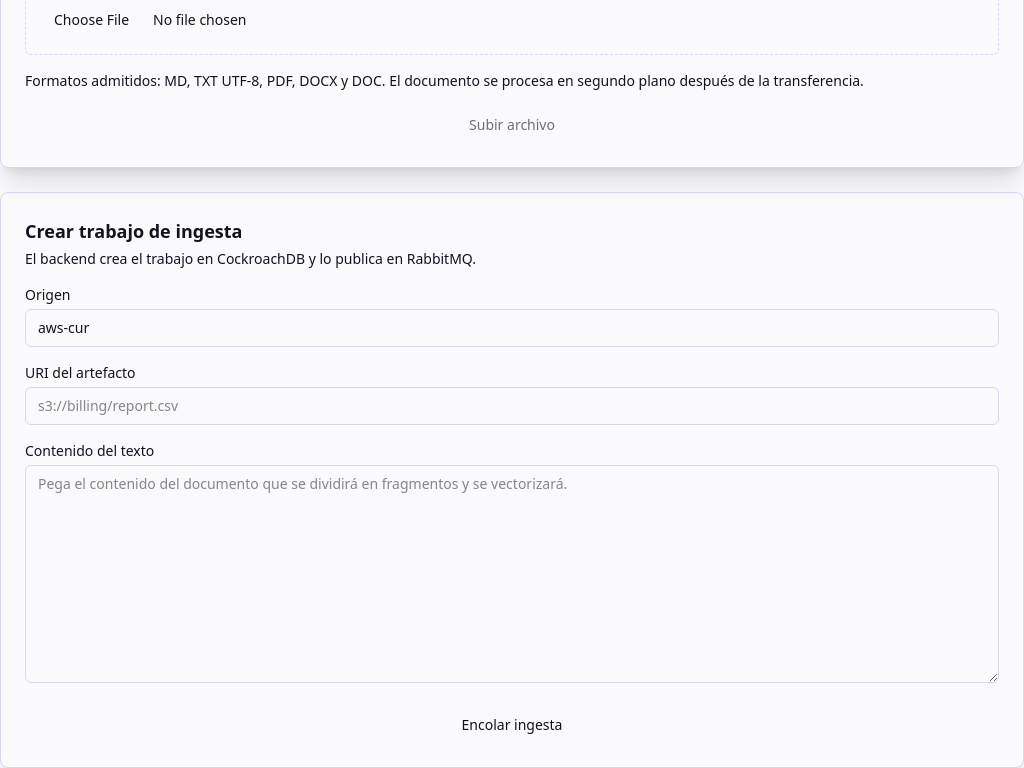
Scenario: JUP-098 aviso de sesion expirada en /login › tarea 4.2: una invalidacion en vuelo por 401 de la mutacion de ingesta muestra el mismo aviso
(page scrolled)
Type "synthetic cost data" into the text box labelled "Contenido del texto" at (512, 574), box [25, 464, 999, 682]
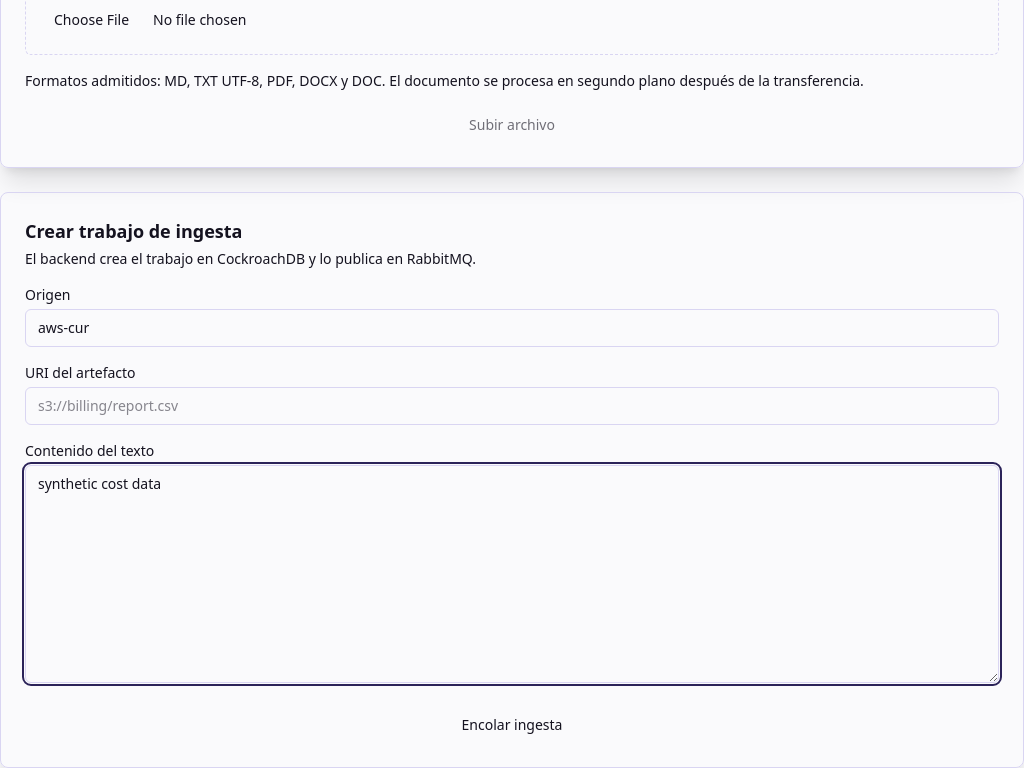
Click the button "Encolar ingesta" at (512, 724), box [25, 706, 999, 742]
(page scrolled)
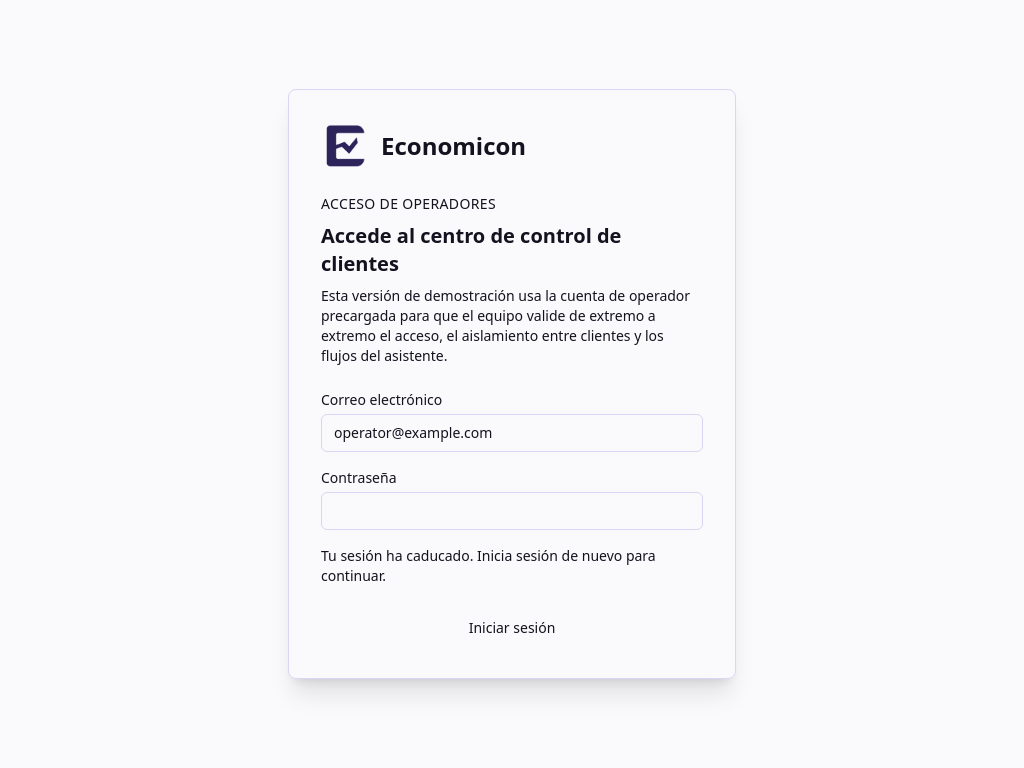
Expected: the button "Iniciar sesión" is shown, [321, 610, 703, 646]
Expected: the message reads "Tu sesión ha caducado. Inicia sesión de nuevo para continuar.", [321, 546, 656, 585]
